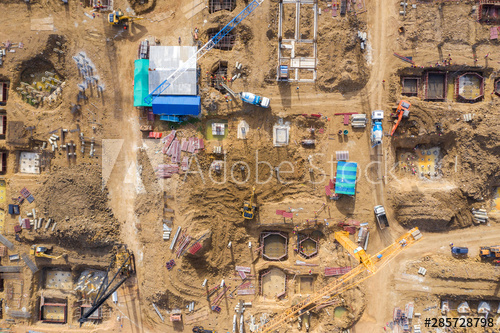crane: (259, 226, 418, 332), (144, 1, 264, 105)
